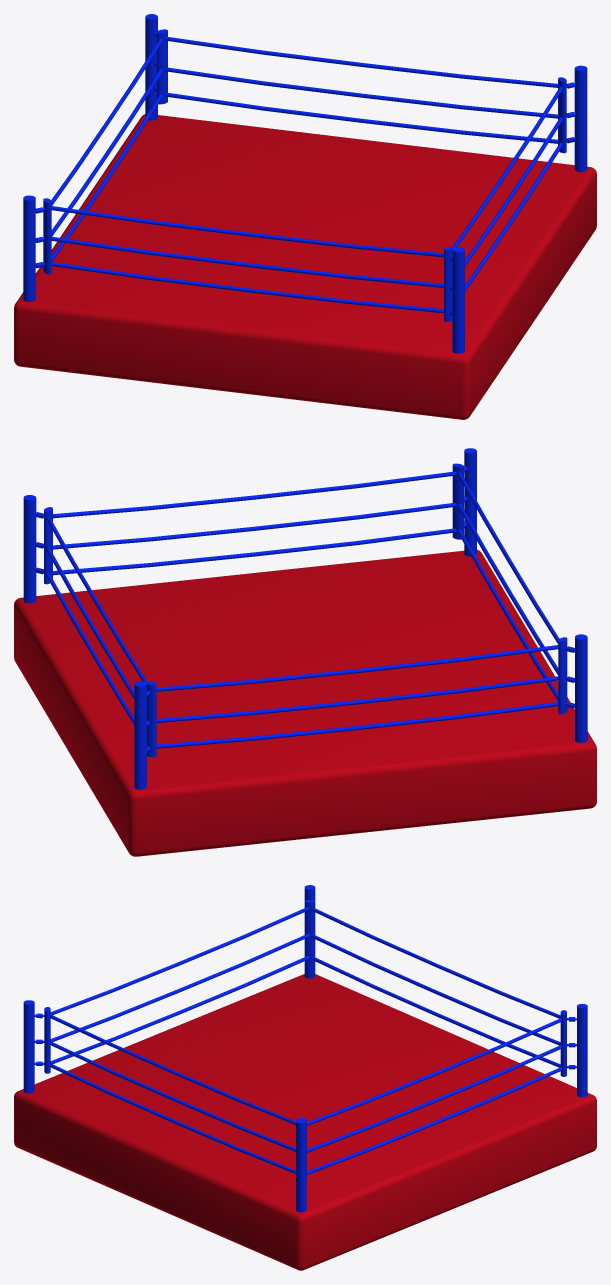
Rendered from arena2.dae.
The picture shows the model from 3 angles, top to bottom: view 1: azimuth 30°, elevation 25°; view 2: azimuth 150°, elevation 25°; view 3: azimuth 270°, elevation 25°; orthographic projection. The views are drawn at different scales.
Visible parts, largest first — view 1: pCube1_group8, group8_pCylinder32, group8_pCylinder24, group8_pCylinder31, group8_pCylinder30, group8_pCylinder25, group8_pCylinder26, group8_pCylinder2, group8_pCylinder1, group8_pCylinder4, group8_pCylinder3, group8_pCylinder18 (+9 smaller); view 2: pCube1_group8, group8_pCylinder21, group8_pCylinder20, group8_pCylinder18, group8_pCylinder19, group8_pCylinder22, group8_pCylinder23, group8_pCylinder2, group8_pCylinder4, group8_pCylinder3, group8_pCylinder1, group8_pCylinder30 (+9 smaller); view 3: pCube1_group8, group8_pCylinder30, group8_pCylinder25, group8_pCylinder24, group8_pCylinder26, group8_pCylinder31, group8_pCylinder18, group8_pCylinder32, group8_pCylinder23, group8_pCylinder21, group8_pCylinder19, group8_pCylinder22 (+5 smaller).
Part boxes in pixels (left/top/right/bottom): pCube1_group8: left=14, top=114, right=596, bottom=419; group8_pCylinder32: left=51, top=262, right=443, bottom=313; group8_pCylinder24: left=165, top=37, right=558, bottom=87; group8_pCylinder31: left=51, top=236, right=443, bottom=287; group8_pCylinder30: left=51, top=206, right=443, bottom=257; group8_pCylinder25: left=165, top=67, right=558, bottom=118; group8_pCylinder26: left=165, top=92, right=558, bottom=143; group8_pCylinder2: left=574, top=65, right=587, bottom=172; group8_pCylinder1: left=452, top=247, right=464, bottom=353; group8_pCylinder4: left=23, top=195, right=35, bottom=301; group8_pCylinder3: left=145, top=14, right=157, bottom=120; group8_pCylinder18: left=51, top=38, right=163, bottom=205; pCube1_group8: left=14, top=549, right=596, bottom=856; group8_pCylinder21: left=52, top=471, right=456, bottom=518; group8_pCylinder20: left=156, top=702, right=558, bottom=748; group8_pCylinder18: left=156, top=645, right=558, bottom=691; group8_pCylinder19: left=156, top=676, right=558, bottom=722; group8_pCylinder22: left=52, top=503, right=456, bottom=549; group8_pCylinder23: left=52, top=528, right=456, bottom=575; group8_pCylinder2: left=23, top=495, right=36, bottom=603; group8_pCylinder4: left=575, top=634, right=587, bottom=742; group8_pCylinder3: left=134, top=681, right=146, bottom=789; group8_pCylinder1: left=464, top=448, right=476, bottom=556; group8_pCylinder30: left=457, top=472, right=559, bottom=643; pCube1_group8: left=14, top=974, right=596, bottom=1270; group8_pCylinder30: left=50, top=907, right=309, bottom=1015; group8_pCylinder25: left=307, top=1045, right=562, bottom=1152; group8_pCylinder24: left=307, top=1018, right=562, bottom=1125; group8_pCylinder26: left=307, top=1067, right=562, bottom=1174; group8_pCylinder31: left=50, top=934, right=309, bottom=1041; group8_pCylinder18: left=310, top=907, right=560, bottom=1018; group8_pCylinder32: left=50, top=956, right=309, bottom=1064; group8_pCylinder23: left=50, top=1063, right=295, bottom=1173; group8_pCylinder21: left=50, top=1014, right=295, bottom=1124; group8_pCylinder19: left=310, top=934, right=560, bottom=1045; group8_pCylinder22: left=50, top=1041, right=295, bottom=1151.
Bounding box in the file's own units: 14.02 × 14.02 × 3.86.
